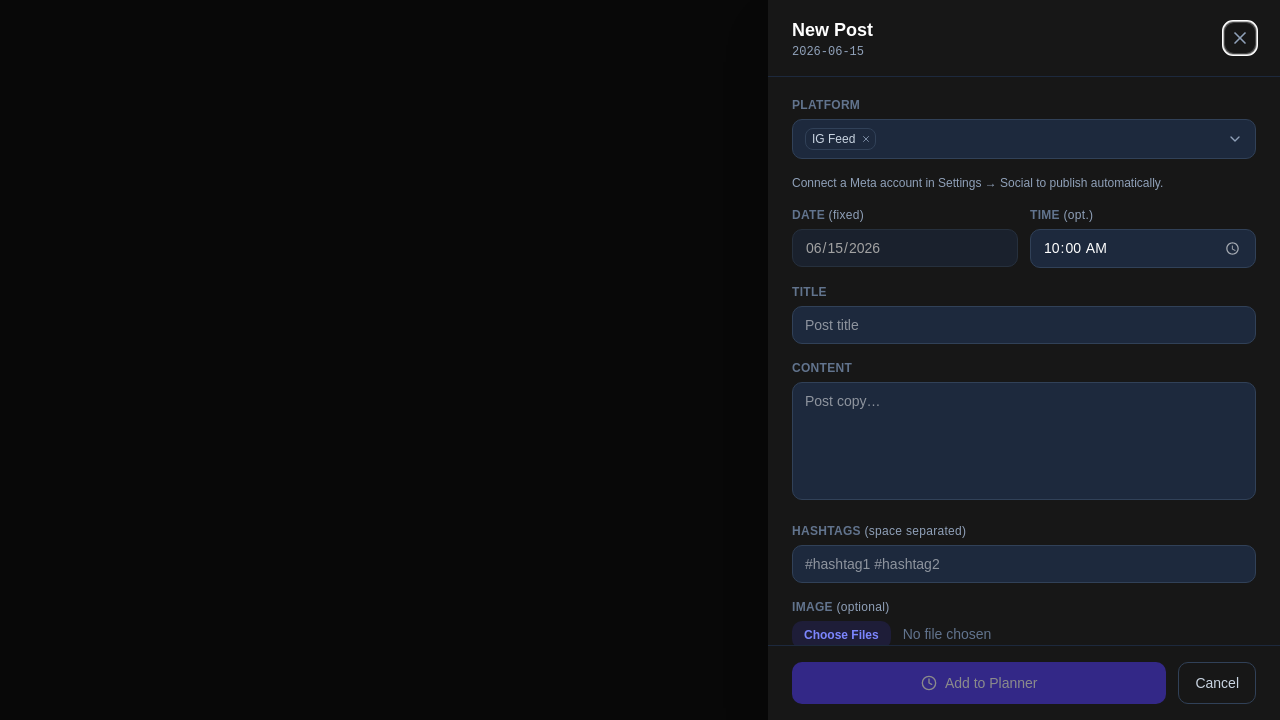
it: NewPostDrawer › keeps the submit button disabled until title and content are filled
Expected: the button "Add to Planner" is disabled, x1=792 y1=662 x2=1166 y2=704
Type "My title" into the field labelled "Title" at (1024, 325), box x1=792 y1=306 x2=1256 y2=344
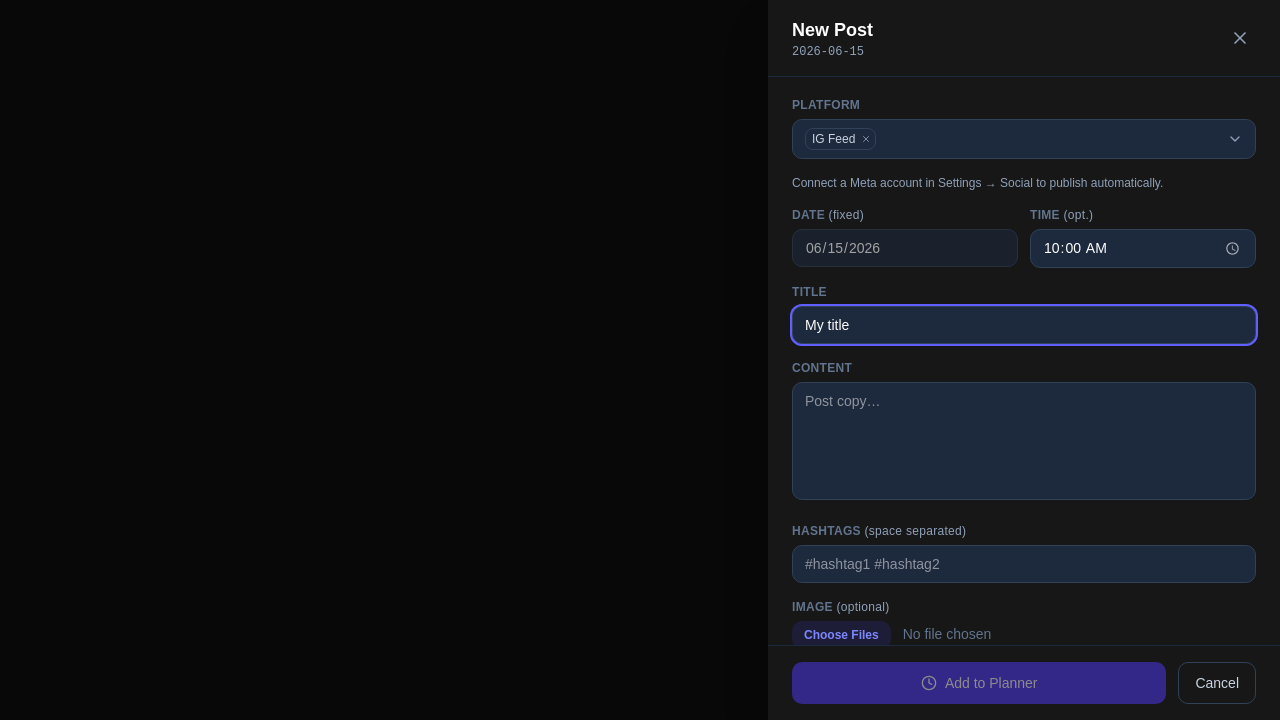
Expected: the button "Add to Planner" is disabled, x1=792 y1=662 x2=1166 y2=704
Type "My content" into the text box labelled "Content" at (1024, 441), box x1=792 y1=382 x2=1256 y2=500
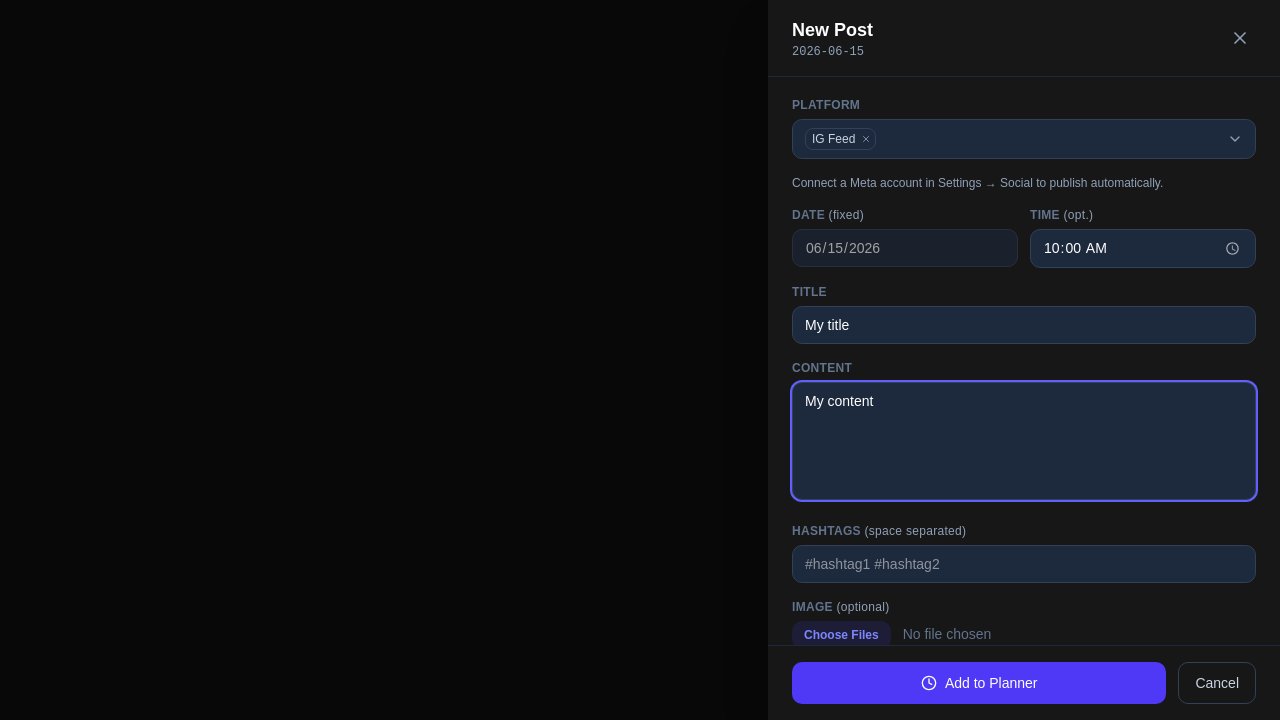
Result: the button "Add to Planner" is enabled at x1=792 y1=662 x2=1166 y2=704
